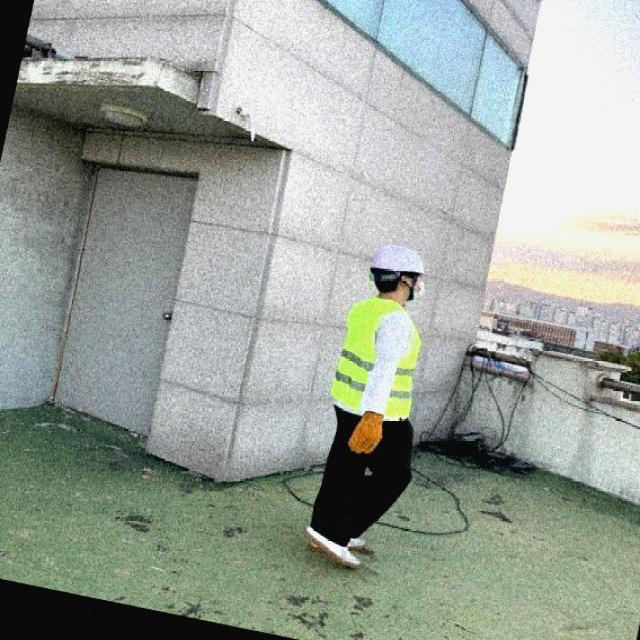helmet: (372, 236, 434, 274)
safety_vest: (326, 298, 424, 422)
